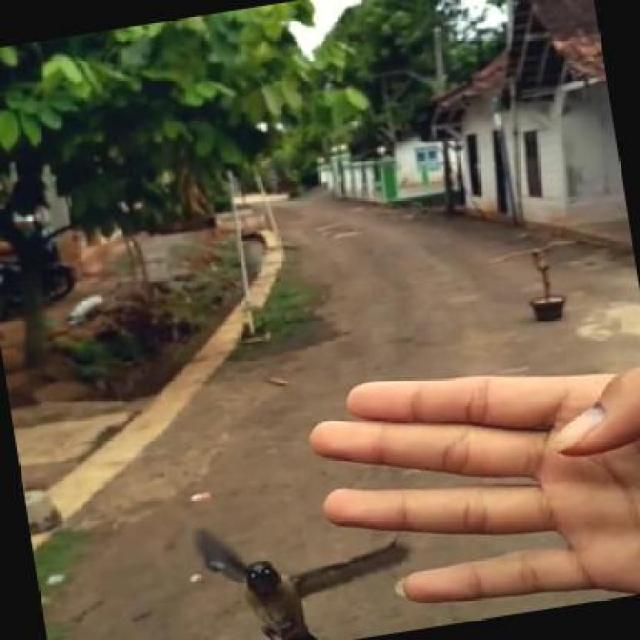Bird: (178, 518, 462, 640)
